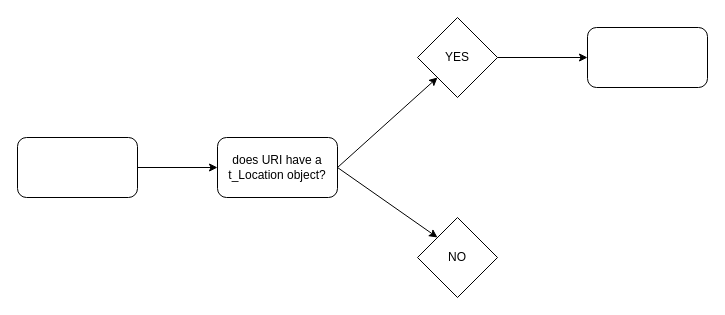
The diagram is 725 pixels wide and 315 high, and some of its shapes have lost their labels. Each missing label, with the box of its shape:
executer->execute(): (16, 136, 138, 198)
pass t_Location to Method object.: (586, 26, 708, 88)
